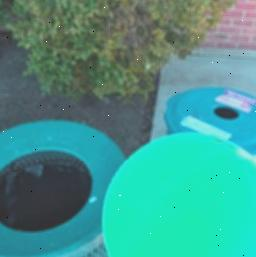algae: (100, 131, 256, 257)
